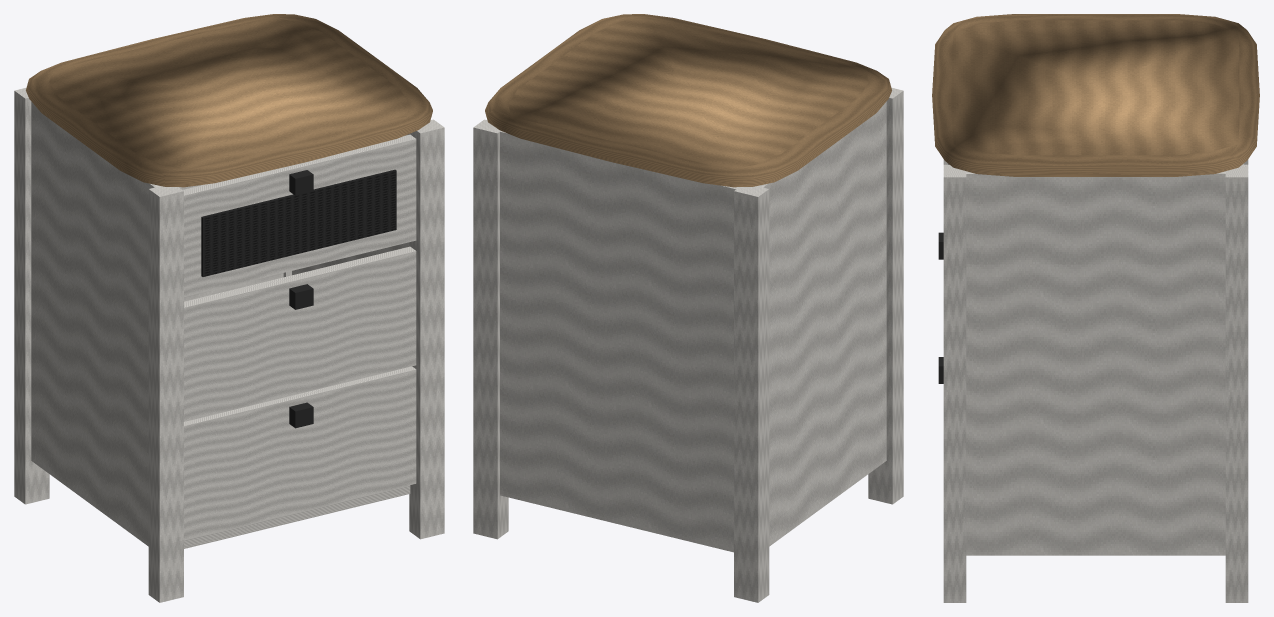
3 views of the same model, side by side, from view 1: azimuth 30°, elevation 25°; view 2: azimuth 150°, elevation 25°; view 3: azimuth 270°, elevation 25° (orthographic). The views are drawn at different scales.
Visible parts, largest first — view 1: 1 top_panel, 6 left_side_panel, 13 middle_drawer_front, 15 bottom_drawer_front, 2 front_left_leg, 10 top_drawer_front, 3 front_right_leg, 11 top_drawer_mesh, 4 back_left_leg, 9 bottom_panel, 7 right_side_panel; view 2: 8 back_panel, 1 top_panel, 6 left_side_panel, 4 back_left_leg, 5 back_right_leg, 2 front_left_leg; view 3: 7 right_side_panel, 1 top_panel, 3 front_right_leg, 5 back_right_leg.
Boxes of the visible parts, <box> form: 1 top_panel: <box>26,14,432,187</box>; 6 left_side_panel: <box>31,101,159,546</box>; 13 middle_drawer_front: <box>184,246,416,421</box>; 15 bottom_drawer_front: <box>184,366,416,540</box>; 2 front_left_leg: <box>148,186,183,602</box>; 10 top_drawer_front: <box>183,134,416,296</box>; 3 front_right_leg: <box>409,119,444,539</box>; 11 top_drawer_mesh: <box>201,169,396,276</box>; 4 back_left_leg: <box>14,87,49,504</box>; 9 bottom_panel: <box>184,485,410,548</box>; 7 right_side_panel: <box>292,134,409,275</box>; 8 back_panel: <box>496,128,746,552</box>; 1 top_panel: <box>485,14,891,187</box>; 6 left_side_panel: <box>757,101,886,546</box>; 4 back_left_leg: <box>734,186,769,602</box>; 5 back_right_leg: <box>473,119,508,539</box>; 2 front_left_leg: <box>868,87,903,504</box>; 7 right_side_panel: <box>965,171,1226,555</box>; 1 top_panel: <box>932,14,1259,176</box>; 3 front_right_leg: <box>943,164,966,602</box>; 5 back_right_leg: <box>1225,164,1248,602</box>.
Bounding box in the file's own units: 0.75 × 1 × 0.67.
4 materials, 3 textured.
